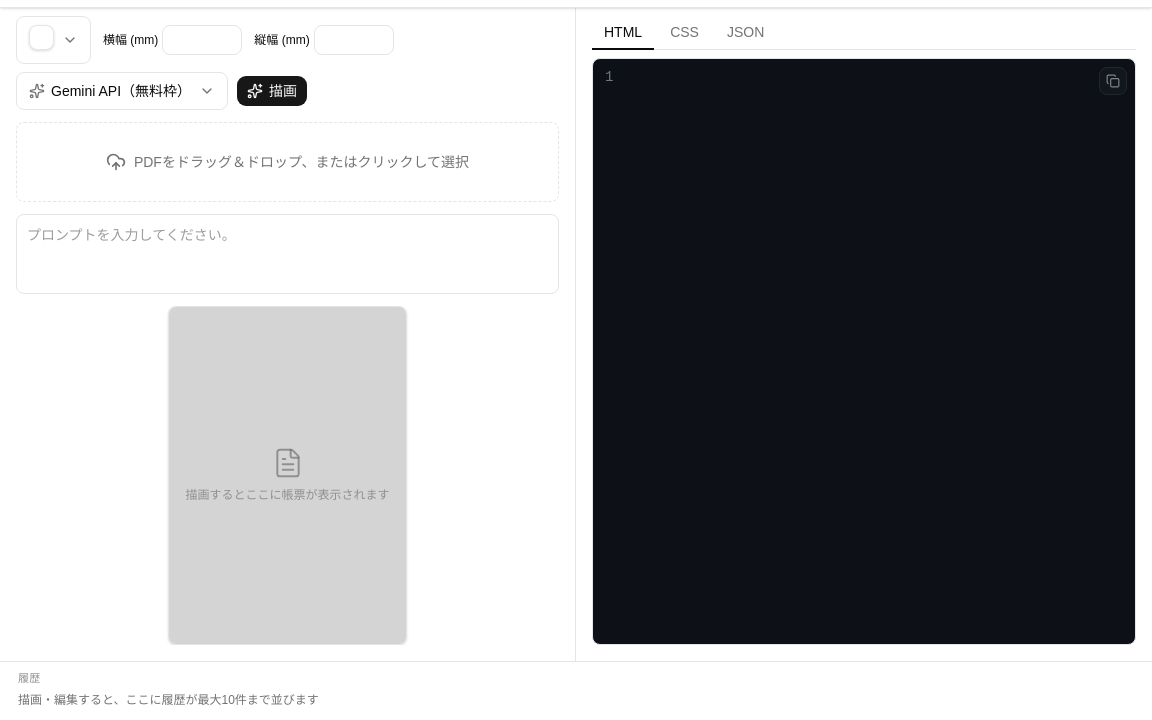
Test: 描画ボタン押下時のAPI疎通 › APIがエラーを返した場合はエラーメッセージが表示され、ストアの内容は変更されない
Click the button "描画" at (272, 91), box [236, 75, 308, 107]
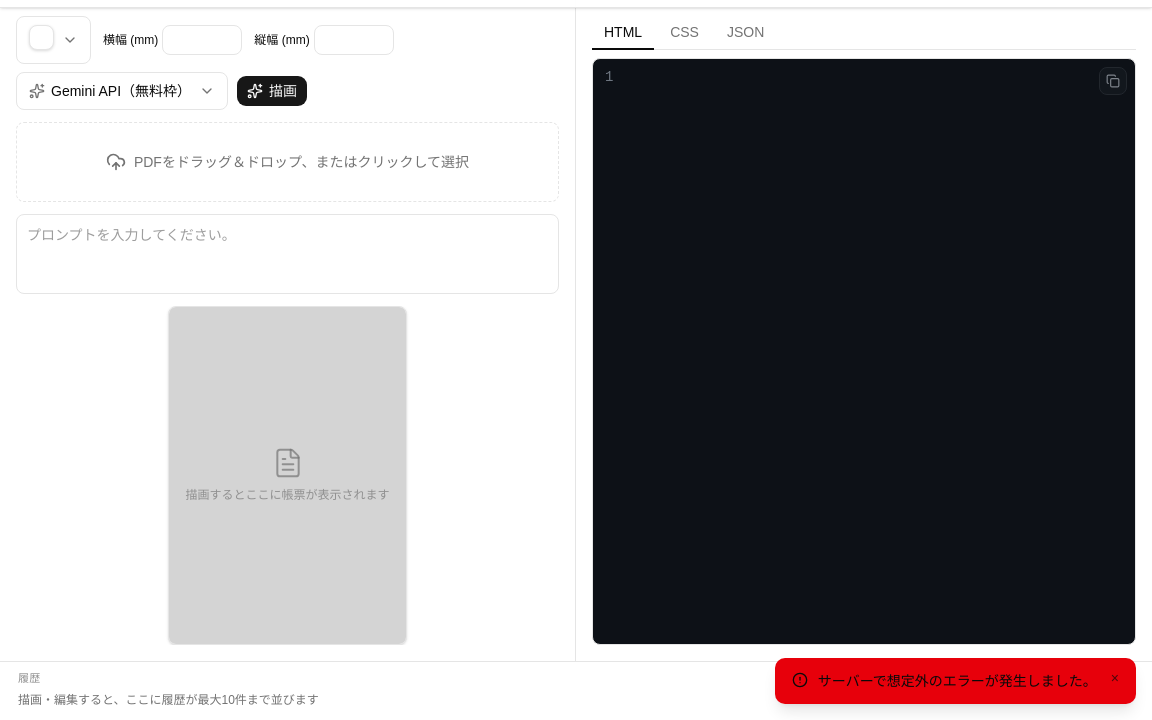
Result: the message shows "サーバーで想定外のエラーが発生しました。" at [818, 673, 1097, 689]
